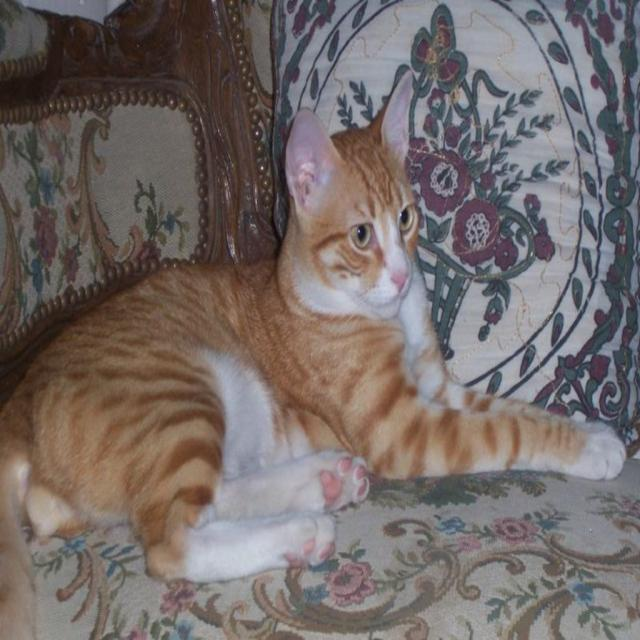Cat: (0, 68, 624, 638)
